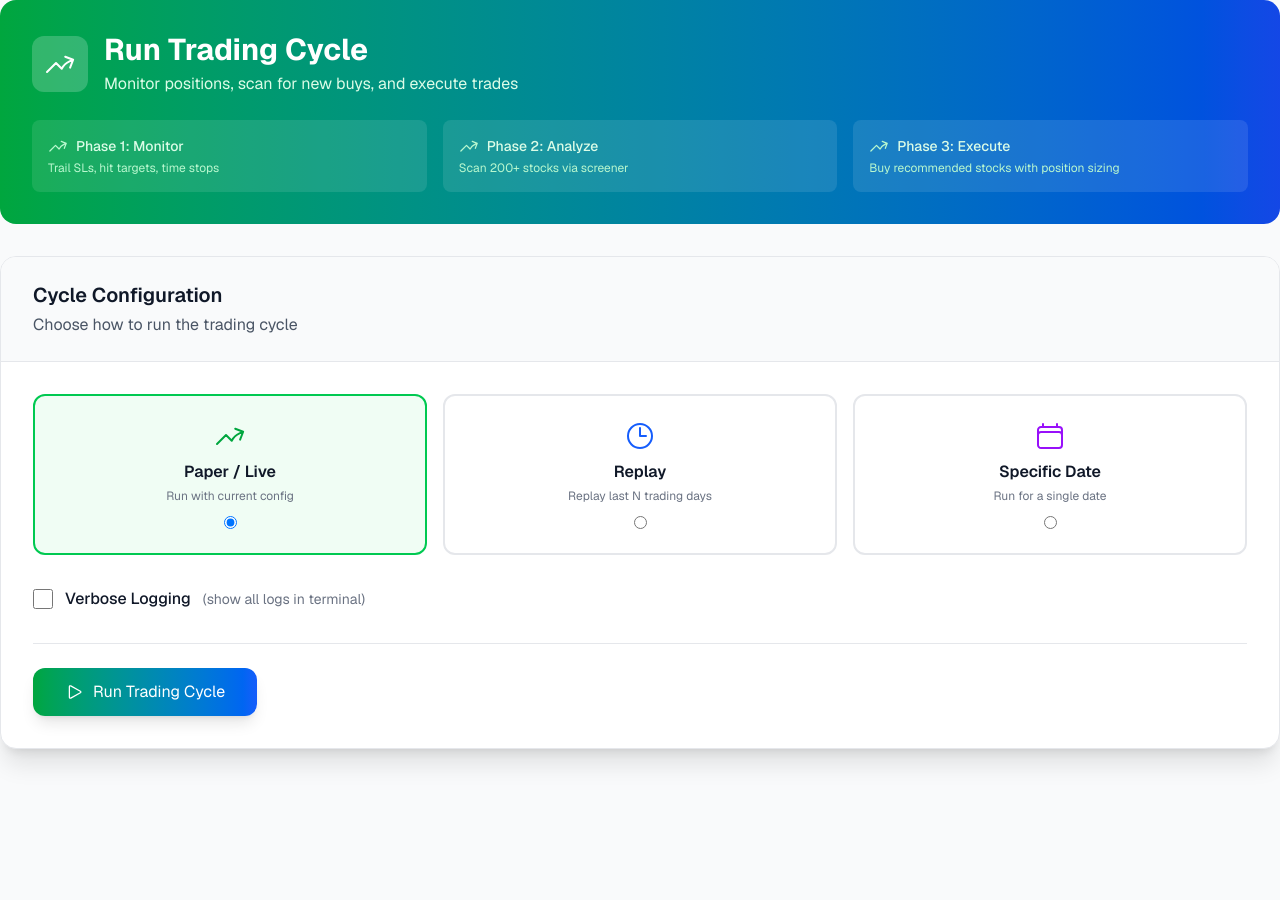
Test case: Trading Cycle Page › shows replay days input when replay mode selected
What coordinates should you click on to do the following:
click the text "Replay"
I would click on:
 (640, 472)
Its box is [614,460,666,484].
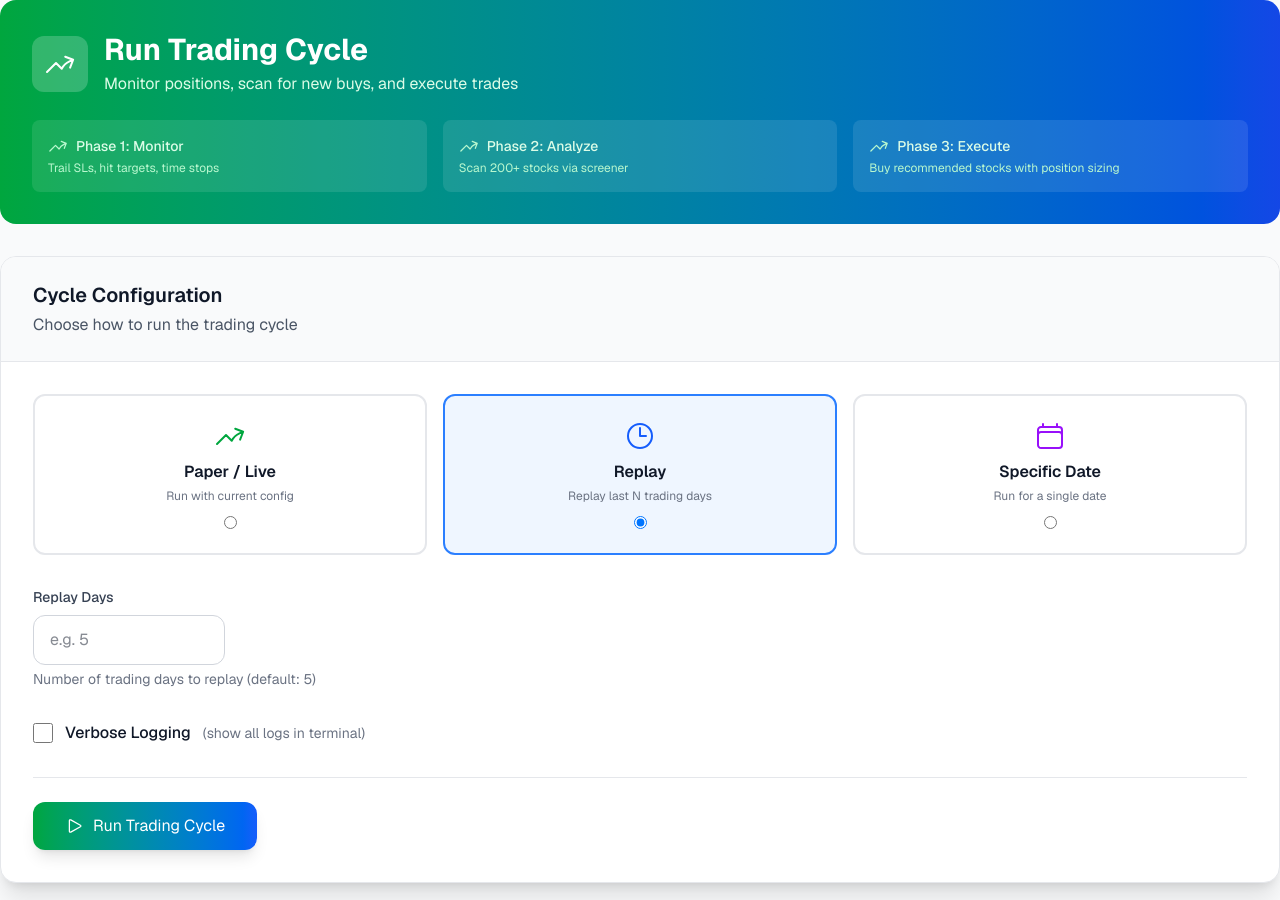
Now the number field with placeholder "e.g. 5" is shown, box [33,615,225,665]
